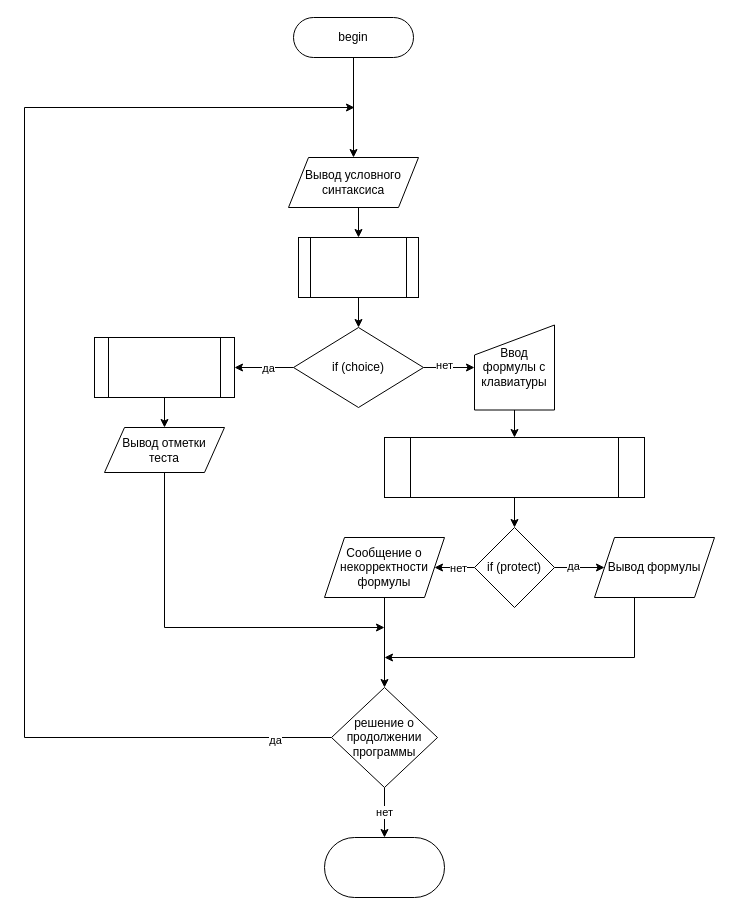
Image size: 732x915. Some labels were removed from this diagram. Here are the shapes that lost their labels. From the top down, the centre of each, then its label:
point (358, 267): choice = isTestChoice()
point (164, 367): var test = new Test() test.start()
point (514, 467): boolean protect = Validation.validateInput(new StringBuilder(formula))
point (384, 867): end
